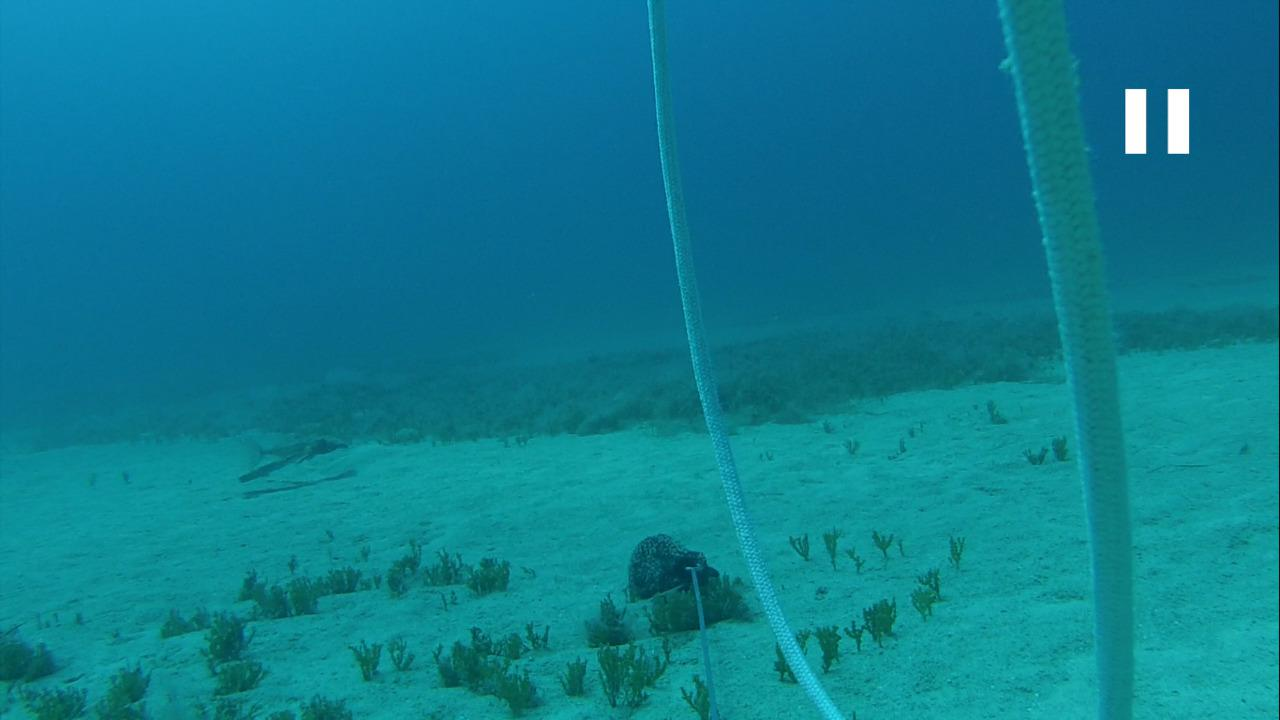dactylopterus: (233, 419, 357, 480)
